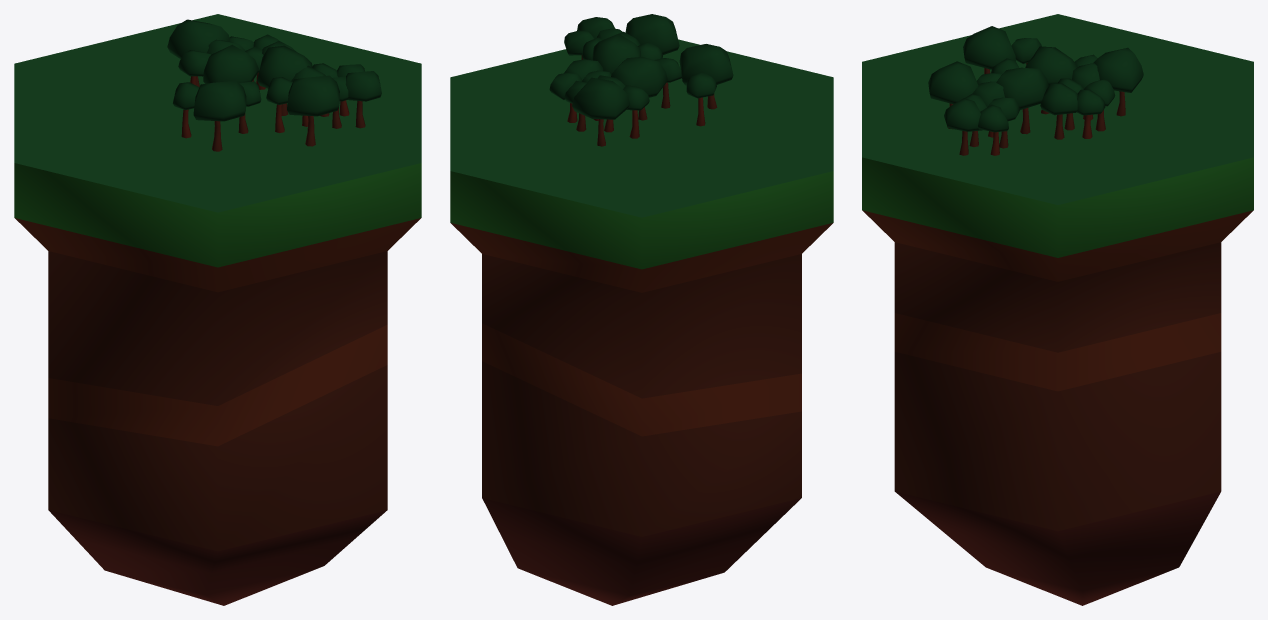
File: Temp_Envrioment_Tile.fbx
The picture shows the model from 3 angles, left to right: view 1: azimuth 30°, elevation 25°; view 2: azimuth 150°, elevation 25°; view 3: azimuth 270°, elevation 25°; orthographic projection. The views are drawn at different scales.
Visible parts, largest first — view 1: Land_03; view 2: Land_03; view 3: Land_03.
Boxes of the visible parts, x1,y1,x2,y2 form: Land_03: (14,14,421,605); Land_03: (450,14,833,605); Land_03: (862,14,1253,605).
Size of the model in its own units: 2.4 by 3.22 by 2.08.
